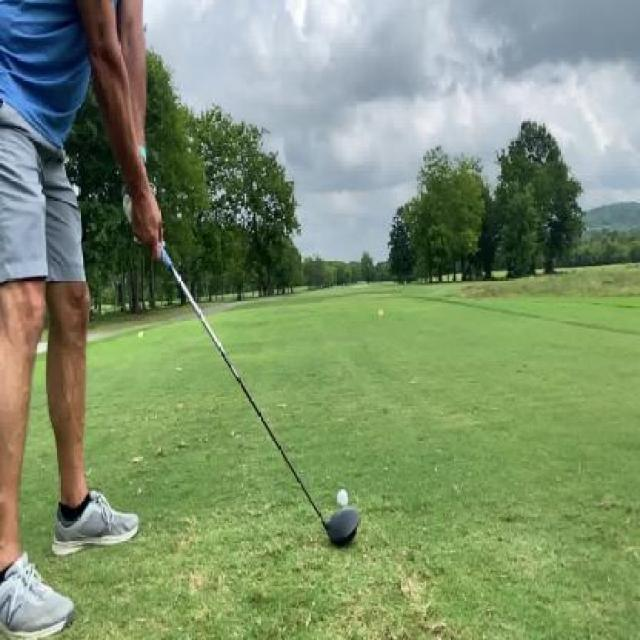club head: (315, 505, 359, 547)
